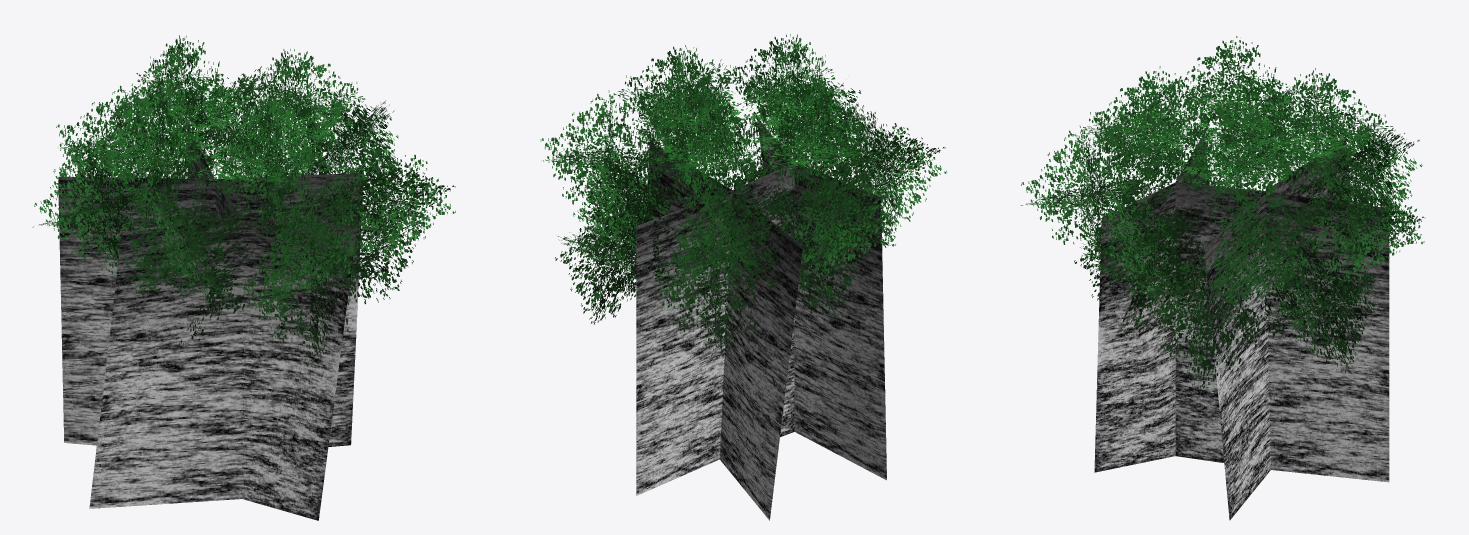
File: berk_2.fbx
3 renders of one model, left to right at view 1: azimuth 30°, elevation 25°; view 2: azimuth 150°, elevation 25°; view 3: azimuth 270°, elevation 25°, orthographic. The views are drawn at different scales.
Visible parts, largest first — view 1: berk_2; view 2: berk_2; view 3: berk_2.
Part boxes in pixels (bbox=[...]): berk_2: bbox=[32, 35, 455, 520]; berk_2: bbox=[540, 34, 947, 520]; berk_2: bbox=[1020, 36, 1424, 520].
Size of the model in its own units: 1219 by 1221 by 1215.
